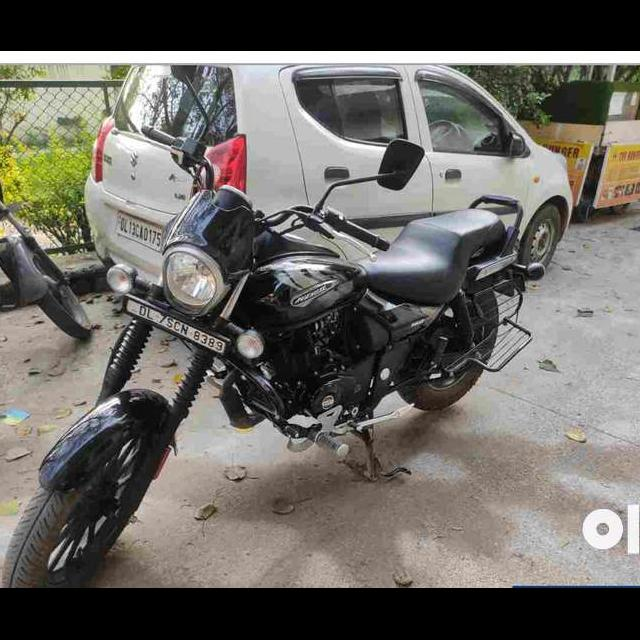Indian_Number_Plate: (123, 298, 229, 355)
